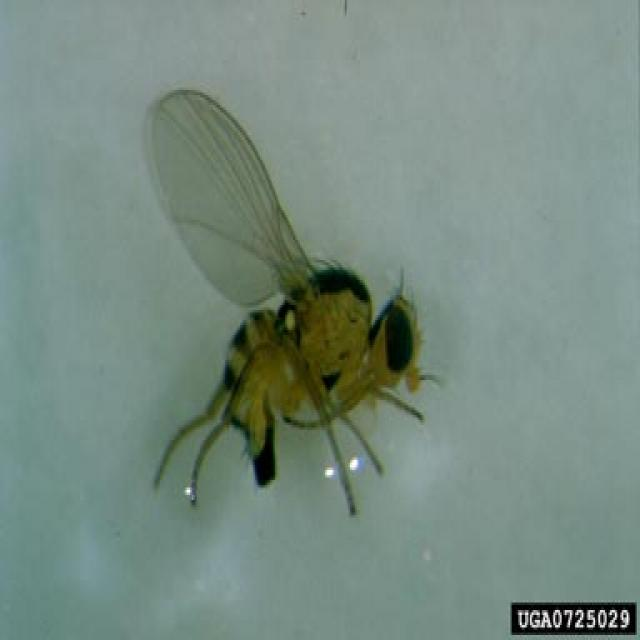Serpentine leafminer: (146, 88, 458, 518)
